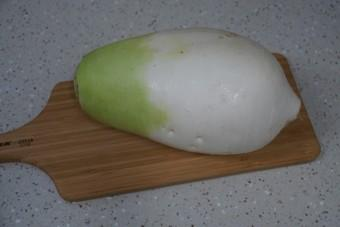radish: (38, 9, 161, 56)
